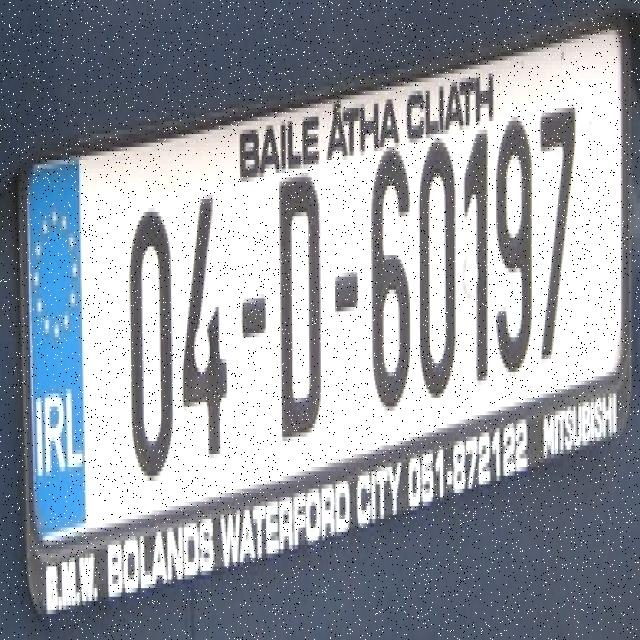licenseplate: (19, 37, 632, 618)
